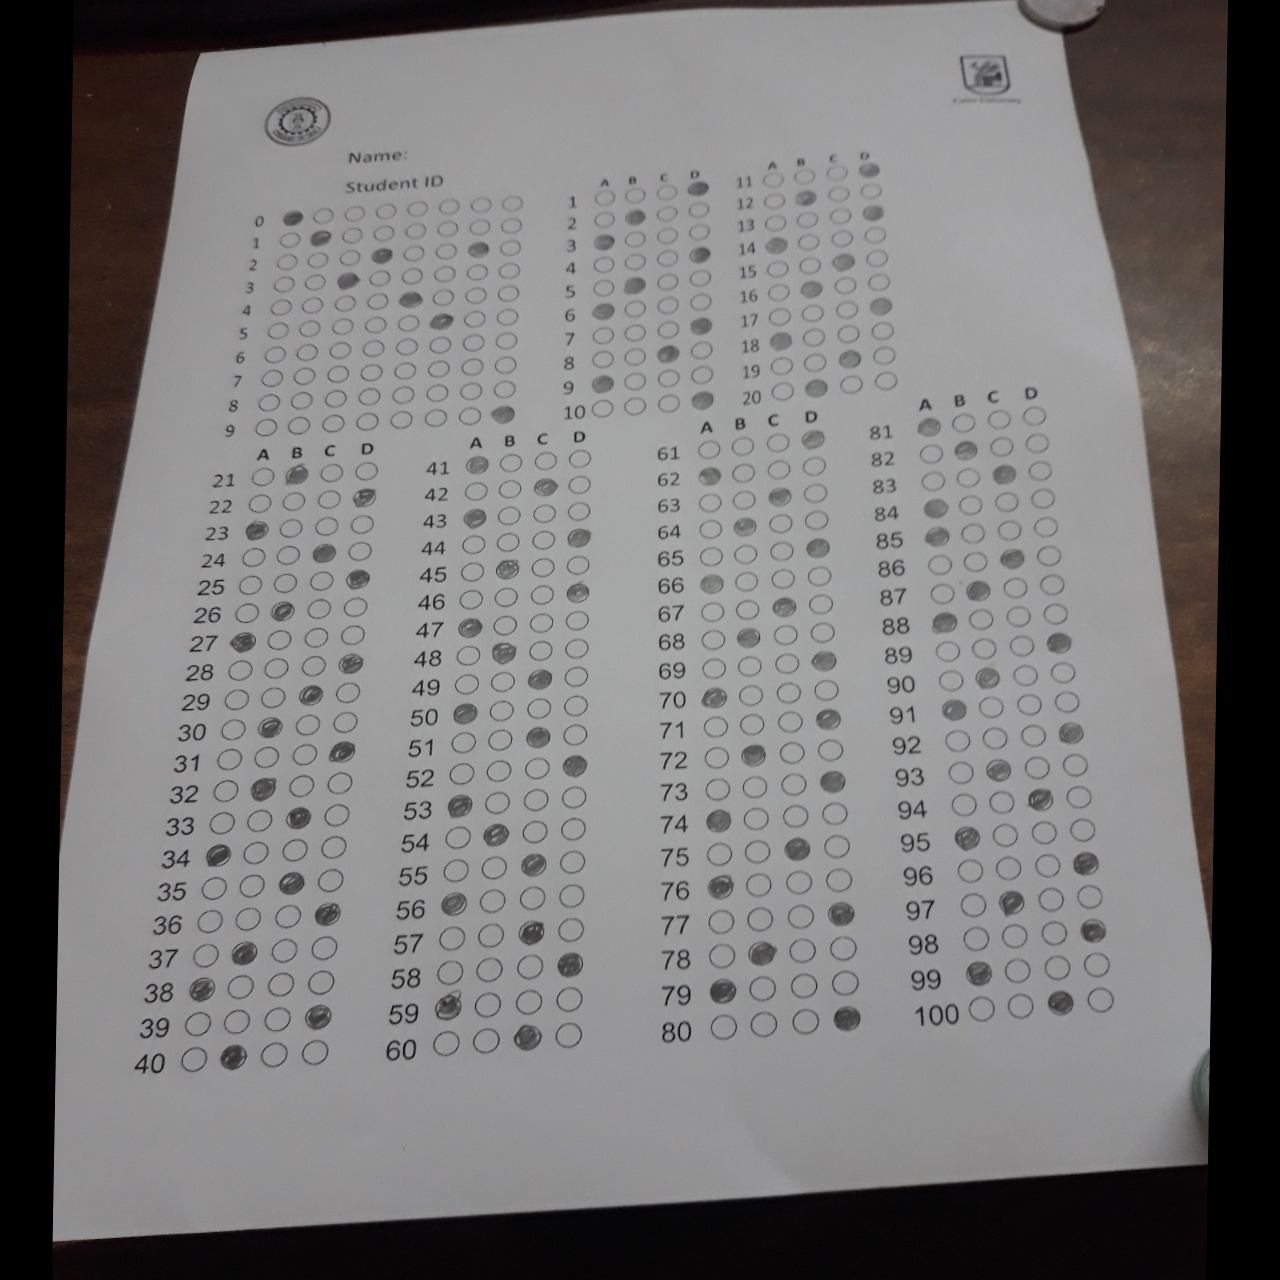not-c: (783, 865, 812, 899), (1085, 983, 1116, 1014), (1006, 990, 1036, 1020), (966, 994, 996, 1022), (324, 769, 354, 796), (320, 833, 349, 860), (234, 872, 264, 899), (273, 903, 302, 930), (515, 986, 544, 1013), (474, 990, 503, 1017), (476, 956, 505, 983), (515, 953, 544, 980), (523, 753, 552, 779), (561, 663, 591, 690), (488, 667, 517, 694), (700, 712, 729, 738), (707, 941, 736, 968), (710, 1012, 740, 1039), (554, 915, 585, 941), (477, 885, 508, 911), (556, 815, 586, 840), (445, 758, 476, 784), (324, 801, 352, 828), (263, 1005, 291, 1032), (556, 985, 584, 1012), (560, 847, 588, 874), (733, 568, 760, 597), (812, 676, 840, 703), (775, 738, 803, 765), (781, 801, 809, 828), (821, 799, 849, 826), (742, 869, 770, 896), (747, 906, 775, 933), (830, 934, 858, 961), (788, 971, 816, 998), (1083, 951, 1111, 978), (1021, 719, 1049, 745), (211, 776, 240, 802), (207, 809, 237, 835), (243, 805, 272, 831), (200, 876, 230, 901), (236, 905, 265, 931), (196, 908, 225, 934), (270, 937, 299, 962), (225, 974, 254, 1000), (258, 1041, 287, 1067), (299, 1040, 328, 1065), (477, 922, 506, 948), (437, 924, 467, 949), (559, 881, 588, 907), (517, 883, 546, 908), (483, 789, 512, 815), (523, 783, 552, 809), (561, 783, 591, 809), (816, 737, 845, 763), (742, 805, 771, 831), (743, 836, 772, 862), (704, 840, 734, 866), (831, 968, 860, 994), (1034, 542, 1063, 567), (1003, 956, 1030, 983), (1001, 922, 1028, 949), (1039, 885, 1065, 912), (280, 836, 308, 862), (315, 866, 343, 892), (192, 942, 220, 968), (179, 1046, 207, 1071), (431, 1029, 459, 1055), (481, 855, 509, 880), (443, 856, 471, 881), (520, 817, 549, 843), (484, 727, 512, 753), (524, 695, 552, 721), (561, 693, 590, 719), (775, 709, 803, 735), (738, 710, 767, 736), (703, 745, 731, 771), (779, 771, 808, 797), (738, 774, 767, 799), (702, 774, 730, 799), (822, 831, 850, 857), (824, 865, 852, 891), (787, 901, 815, 927), (708, 907, 736, 933), (1042, 954, 1070, 980), (1040, 920, 1068, 946), (1076, 884, 1104, 910), (1067, 816, 1095, 842), (992, 821, 1020, 846), (1033, 852, 1061, 878), (1060, 750, 1088, 776), (1023, 753, 1051, 778), (982, 723, 1010, 749), (1053, 687, 1081, 713), (1016, 688, 1044, 714), (1049, 659, 1077, 685), (1037, 570, 1065, 595), (961, 549, 989, 574), (287, 772, 316, 797), (307, 968, 336, 993), (183, 1012, 212, 1036), (471, 1027, 501, 1051), (437, 959, 467, 983), (485, 757, 515, 782), (448, 730, 477, 755), (486, 697, 516, 722), (561, 722, 588, 748), (789, 935, 816, 961), (962, 925, 989, 951), (1032, 819, 1058, 845), (994, 855, 1021, 880), (955, 856, 982, 881), (1065, 784, 1092, 810), (989, 789, 1016, 815), (949, 791, 976, 817), (947, 758, 974, 784), (241, 838, 270, 863), (309, 935, 338, 960), (268, 971, 297, 995), (222, 1008, 250, 1033), (554, 1021, 583, 1046), (442, 823, 470, 847), (747, 974, 774, 999), (749, 1010, 776, 1035), (960, 892, 987, 917), (942, 728, 969, 753), (697, 516, 723, 540), (809, 619, 835, 644), (791, 1008, 817, 1033), (316, 488, 343, 511), (273, 542, 300, 565), (299, 654, 326, 678), (452, 672, 479, 695), (527, 612, 554, 635), (527, 554, 554, 578), (767, 456, 794, 479), (801, 452, 828, 476), (731, 459, 758, 483), (697, 544, 724, 567), (697, 599, 724, 622), (806, 591, 833, 614), (772, 652, 799, 675), (775, 679, 802, 702), (241, 544, 267, 567), (261, 685, 287, 708), (297, 712, 322, 735), (493, 612, 519, 635), (493, 583, 519, 606), (495, 529, 520, 552), (497, 475, 523, 498), (533, 447, 559, 470), (769, 510, 795, 533), (768, 537, 794, 560), (702, 627, 728, 651), (270, 570, 297, 592), (267, 628, 294, 651), (263, 655, 290, 678), (229, 658, 256, 680), (224, 687, 251, 709), (565, 553, 592, 576), (565, 445, 592, 468), (765, 430, 792, 452), (799, 481, 826, 503), (696, 490, 723, 512), (733, 542, 760, 564), (988, 436, 1015, 458), (338, 681, 362, 704), (530, 526, 554, 550), (806, 564, 831, 587), (938, 668, 962, 692), (972, 636, 996, 660), (1005, 602, 1029, 626), (931, 580, 955, 604), (281, 490, 307, 512), (309, 570, 335, 592), (237, 573, 263, 595), (305, 598, 331, 620), (222, 716, 247, 738), (216, 748, 241, 770), (291, 743, 316, 765), (332, 710, 358, 733), (455, 642, 481, 665), (529, 639, 554, 661), (563, 608, 588, 631), (459, 560, 485, 583), (461, 532, 486, 554), (496, 503, 522, 525), (530, 502, 556, 524), (567, 498, 593, 520), (567, 474, 593, 496), (463, 479, 489, 502), (496, 450, 522, 472), (696, 437, 722, 459), (730, 434, 756, 456), (731, 488, 757, 510), (736, 595, 762, 618), (771, 622, 797, 645), (700, 655, 726, 678), (734, 655, 760, 678), (994, 490, 1020, 512), (1029, 459, 1055, 482), (920, 470, 946, 492), (949, 410, 975, 433), (983, 408, 1009, 430), (346, 540, 373, 561), (302, 626, 329, 647), (738, 685, 765, 706), (1028, 488, 1055, 509), (978, 695, 1001, 719), (935, 639, 959, 662), (968, 605, 992, 628), (565, 636, 590, 659), (530, 581, 554, 604), (457, 588, 482, 611), (769, 566, 794, 588), (1014, 663, 1039, 686), (956, 492, 981, 515), (1024, 433, 1049, 455), (590, 275, 615, 297), (332, 316, 358, 338), (233, 601, 259, 622), (342, 595, 368, 617), (254, 745, 280, 767), (803, 508, 829, 529), (962, 520, 988, 542), (1032, 515, 1057, 536), (956, 467, 982, 488), (918, 443, 944, 464), (1021, 404, 1047, 425), (1008, 634, 1032, 656), (1044, 602, 1068, 625), (340, 622, 365, 644), (927, 554, 952, 576), (801, 302, 826, 322), (686, 197, 712, 217), (654, 270, 680, 290), (591, 348, 617, 368), (622, 229, 648, 248), (591, 325, 617, 345), (622, 248, 648, 268), (493, 331, 519, 350), (400, 266, 425, 286), (325, 365, 350, 384), (260, 369, 286, 389), (271, 275, 297, 295), (277, 229, 302, 248), (250, 467, 275, 486), (247, 495, 273, 515), (996, 518, 1022, 538), (392, 338, 418, 356), (1003, 576, 1027, 597), (830, 229, 855, 248), (796, 207, 821, 227), (838, 373, 863, 393), (655, 248, 680, 268), (497, 239, 522, 259), (493, 355, 518, 375), (491, 377, 516, 397), (456, 406, 481, 425), (438, 195, 463, 215), (437, 217, 462, 237), (406, 220, 430, 240), (374, 222, 399, 241), (358, 413, 382, 433), (320, 413, 345, 433), (287, 414, 312, 434), (270, 297, 294, 316), (319, 463, 343, 483), (354, 459, 379, 479), (862, 225, 887, 244), (828, 205, 853, 224), (765, 307, 791, 326), (799, 327, 825, 346), (876, 370, 901, 389), (802, 353, 828, 372), (622, 396, 648, 415), (624, 298, 649, 316), (493, 307, 519, 326), (433, 264, 458, 282), (467, 261, 492, 280), (468, 193, 493, 212), (392, 359, 417, 377), (406, 199, 431, 218), (366, 291, 392, 309), (340, 225, 366, 244), (302, 272, 328, 291), (297, 319, 322, 338), (253, 417, 279, 436), (256, 392, 281, 410), (263, 345, 288, 363), (273, 250, 299, 268), (350, 515, 376, 533), (797, 256, 821, 275), (688, 266, 712, 286), (656, 181, 680, 200), (656, 392, 680, 411), (425, 358, 449, 377), (341, 203, 365, 223), (824, 162, 849, 181), (828, 183, 852, 202), (797, 230, 822, 248), (791, 166, 816, 185), (763, 212, 788, 231), (764, 260, 789, 279), (866, 272, 891, 291), (835, 300, 859, 319), (764, 282, 789, 301), (835, 324, 859, 342), (869, 322, 893, 341), (772, 382, 797, 401), (690, 339, 715, 358), (653, 224, 678, 243), (654, 295, 679, 314), (655, 320, 680, 339), (656, 367, 681, 386), (590, 399, 614, 417), (622, 322, 647, 341), (622, 183, 647, 202), (593, 207, 618, 226), (499, 195, 524, 213), (496, 285, 520, 304), (459, 358, 484, 376), (462, 307, 486, 326), (468, 216, 492, 234), (434, 240, 458, 259), (430, 334, 455, 353), (388, 410, 413, 429), (393, 384, 417, 403), (396, 312, 421, 331), (403, 243, 428, 261), (375, 200, 400, 219), (367, 267, 392, 286), (363, 314, 388, 333), (361, 339, 386, 358), (360, 363, 384, 382), (325, 389, 349, 408), (328, 340, 353, 359), (292, 366, 316, 384), (688, 292, 714, 309), (622, 348, 648, 366), (591, 252, 617, 270), (461, 334, 486, 352), (424, 383, 450, 401), (311, 207, 336, 225), (300, 297, 326, 314), (291, 392, 316, 409), (859, 182, 883, 200), (865, 247, 888, 266), (763, 189, 787, 207), (832, 275, 856, 294), (772, 355, 796, 374), (621, 372, 645, 390), (465, 284, 489, 302), (424, 407, 448, 425), (760, 170, 784, 188), (690, 363, 715, 381), (688, 220, 713, 238), (653, 204, 678, 222), (592, 186, 617, 204), (499, 217, 524, 234), (497, 261, 522, 279), (457, 381, 482, 399), (433, 287, 457, 305), (355, 388, 380, 406), (333, 292, 358, 309), (336, 248, 361, 266), (306, 251, 331, 268), (297, 342, 321, 360), (266, 321, 291, 339), (313, 517, 338, 535), (277, 519, 301, 537), (873, 347, 897, 365)
taken-c: (965, 955, 995, 987), (708, 974, 738, 1005), (831, 1002, 862, 1033), (1046, 987, 1076, 1017), (1078, 914, 1109, 944), (996, 887, 1026, 918), (1069, 847, 1099, 877), (953, 822, 982, 852), (983, 755, 1014, 784), (1026, 784, 1056, 812), (434, 993, 463, 1021), (517, 918, 546, 946), (559, 751, 588, 779), (941, 695, 971, 723), (302, 1002, 333, 1029), (205, 840, 233, 869), (556, 949, 584, 978), (452, 699, 481, 727), (284, 804, 313, 831), (313, 899, 342, 926), (188, 975, 217, 1002), (441, 890, 470, 917), (481, 821, 510, 847), (525, 665, 554, 692), (782, 835, 811, 862), (1056, 719, 1085, 745), (924, 522, 953, 549), (951, 436, 981, 462), (277, 870, 305, 897), (230, 938, 258, 965), (219, 1042, 247, 1069), (513, 1024, 542, 1051), (520, 850, 549, 877), (447, 792, 475, 819), (524, 724, 552, 751), (974, 663, 1003, 689), (932, 608, 961, 634), (999, 545, 1028, 571), (964, 578, 994, 602), (1044, 628, 1073, 654), (921, 495, 949, 520), (914, 413, 942, 438), (825, 900, 855, 925), (745, 940, 775, 965), (248, 776, 277, 801), (799, 425, 828, 450), (697, 570, 726, 594), (704, 873, 733, 898), (336, 651, 363, 675), (493, 557, 520, 581), (531, 474, 558, 498), (767, 483, 794, 508), (731, 515, 758, 539), (805, 535, 832, 559), (734, 625, 761, 649), (699, 686, 726, 710), (813, 707, 840, 731), (704, 809, 731, 833), (990, 462, 1017, 486), (819, 769, 845, 794), (350, 486, 377, 510), (298, 682, 325, 706), (329, 738, 356, 762), (489, 640, 516, 663), (457, 614, 484, 638), (565, 525, 592, 549), (696, 463, 723, 486), (738, 743, 765, 767), (771, 595, 799, 618), (268, 599, 294, 622), (230, 629, 256, 653), (257, 715, 282, 738), (564, 580, 590, 604), (810, 647, 836, 670), (309, 542, 336, 564), (343, 567, 370, 590), (461, 506, 486, 529), (284, 463, 309, 485), (243, 520, 270, 542), (335, 268, 361, 290), (465, 239, 491, 260), (764, 234, 789, 256), (803, 377, 828, 399), (490, 403, 515, 424), (794, 188, 819, 207), (428, 311, 454, 331), (370, 245, 396, 265), (464, 455, 490, 475), (862, 202, 886, 222), (867, 297, 892, 316), (767, 331, 791, 350), (689, 315, 714, 335), (687, 245, 712, 265), (690, 390, 715, 410), (856, 159, 881, 178), (655, 343, 679, 363), (830, 252, 855, 271), (798, 279, 823, 298), (836, 349, 860, 368), (397, 290, 422, 308), (280, 207, 305, 226), (622, 275, 646, 294), (591, 301, 614, 320), (309, 229, 333, 247), (685, 179, 709, 197), (590, 374, 614, 392), (622, 207, 646, 225), (593, 232, 615, 250)
